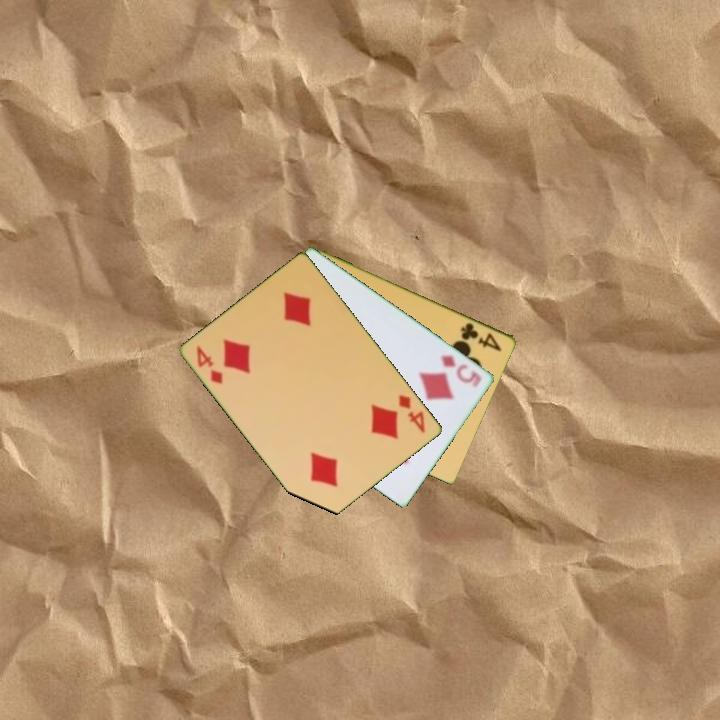4c: (457, 319, 505, 354)
4d: (395, 391, 428, 436), (193, 342, 226, 387)
5d: (438, 351, 485, 390)
